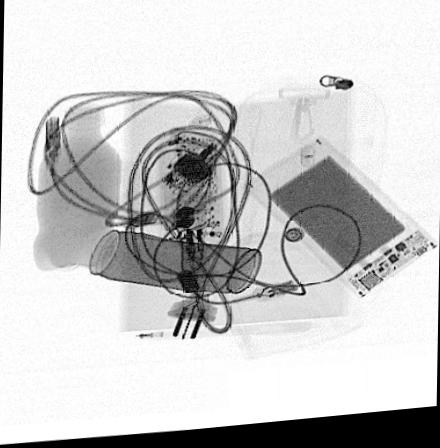Powerbank: (247, 144, 438, 308)
